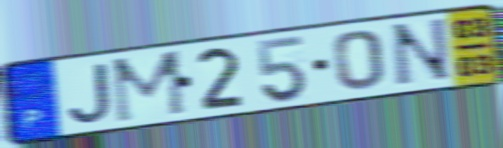0: (330, 29, 389, 93)
2: (195, 45, 244, 111)
5: (254, 33, 309, 105)
J: (66, 60, 115, 125)
M: (109, 47, 190, 127)
N: (388, 15, 456, 90)
